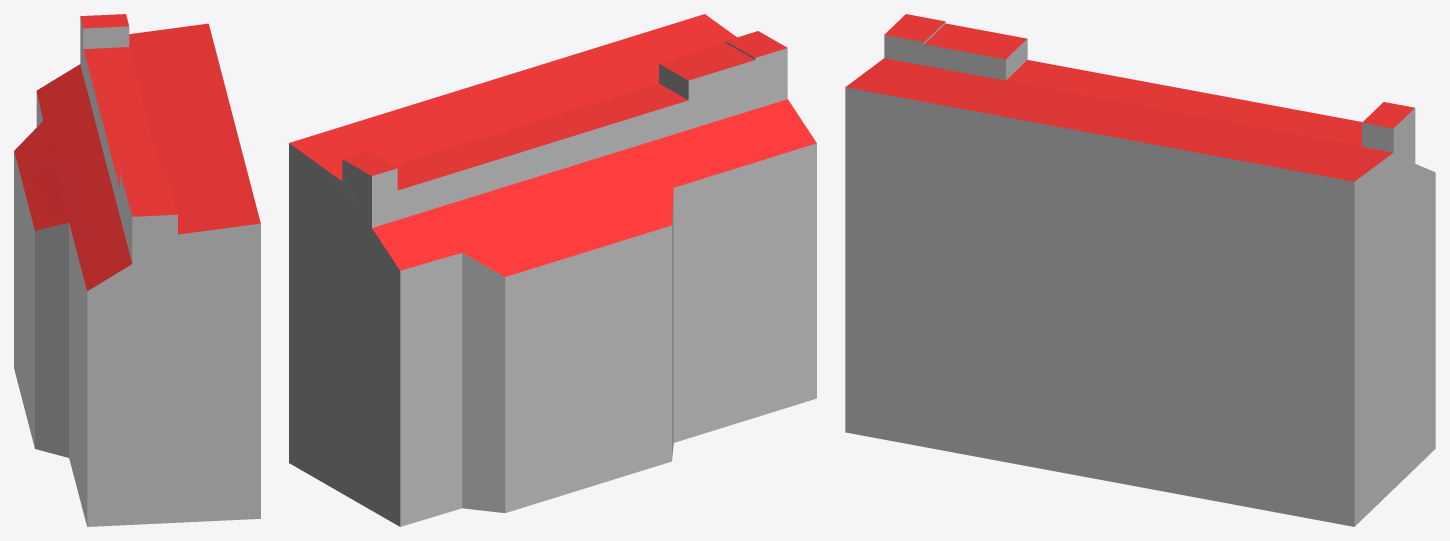
File: DEBY_LOD2_4906977.dae
The picture shows the model from 3 angles, left to right: view 1: azimuth 30°, elevation 25°; view 2: azimuth 150°, elevation 25°; view 3: azimuth 270°, elevation 25°; orthographic projection. The views are drawn at different scales.
Bounding box in the file's own units: 27 × 38.82 × 26.17.
